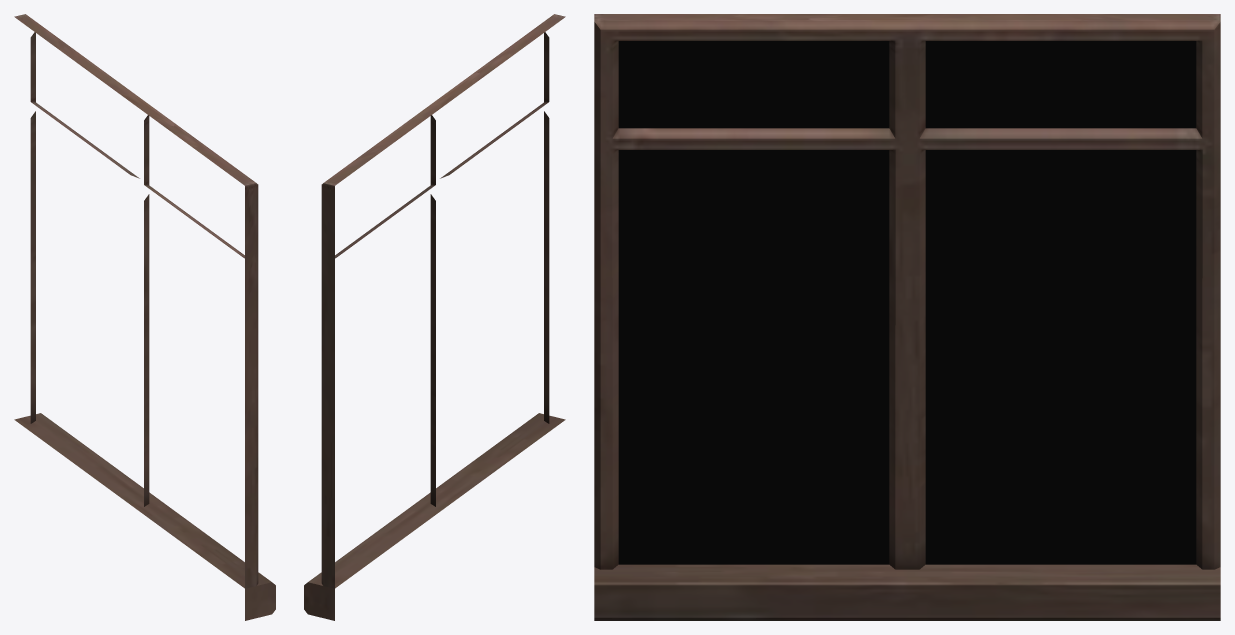
3 renders of one model, left to right at view 1: azimuth 30°, elevation 25°; view 2: azimuth 150°, elevation 25°; view 3: azimuth 270°, elevation 25°, orthographic. The views are drawn at different scales.
Visible parts, largest first — view 1: body0_model0_lod0_mesh1; view 2: body0_model0_lod0_mesh1; view 3: body0_model0_lod0_mesh0, body0_model0_lod0_mesh1.
Part boxes in pixels (bbox=[...]): body0_model0_lod0_mesh1: bbox=[14, 14, 275, 620]; body0_model0_lod0_mesh1: bbox=[304, 14, 565, 620]; body0_model0_lod0_mesh0: bbox=[618, 41, 1196, 564]; body0_model0_lod0_mesh1: bbox=[594, 14, 1220, 620].
Size of the model in its own units: 8 by 108 by 104.
2 materials, 1 textured.
